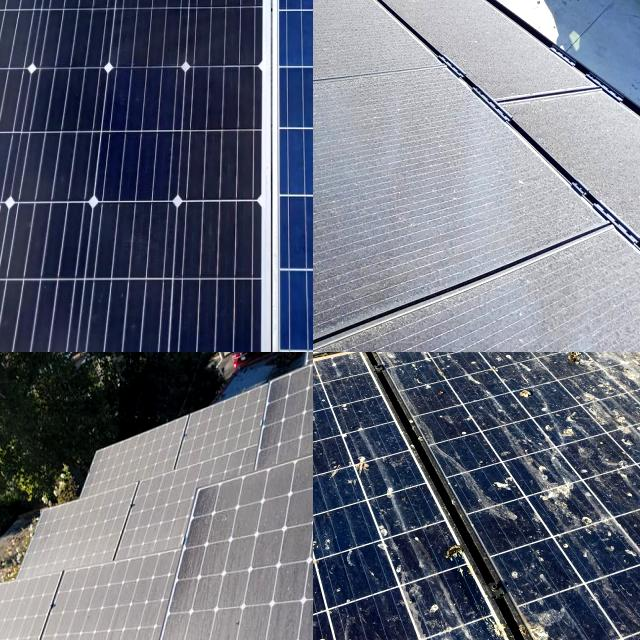bird: (527, 461, 614, 534), (338, 426, 376, 488), (566, 352, 637, 378), (313, 464, 338, 524), (444, 537, 466, 605), (512, 377, 544, 422), (461, 352, 515, 377), (313, 572, 333, 627), (552, 352, 610, 369), (313, 610, 343, 640), (540, 352, 589, 367), (313, 352, 330, 376), (313, 352, 335, 369)
crack: (0, 0, 313, 352)
dust: (313, 262, 557, 352), (313, 102, 481, 230), (200, 483, 313, 640), (569, 109, 634, 352), (491, 31, 538, 228), (313, 0, 425, 77), (197, 400, 310, 453), (65, 578, 139, 640), (45, 512, 110, 562), (313, 0, 406, 25), (138, 482, 169, 545), (102, 448, 175, 470), (313, 0, 389, 20), (313, 0, 378, 22), (0, 591, 20, 640)
